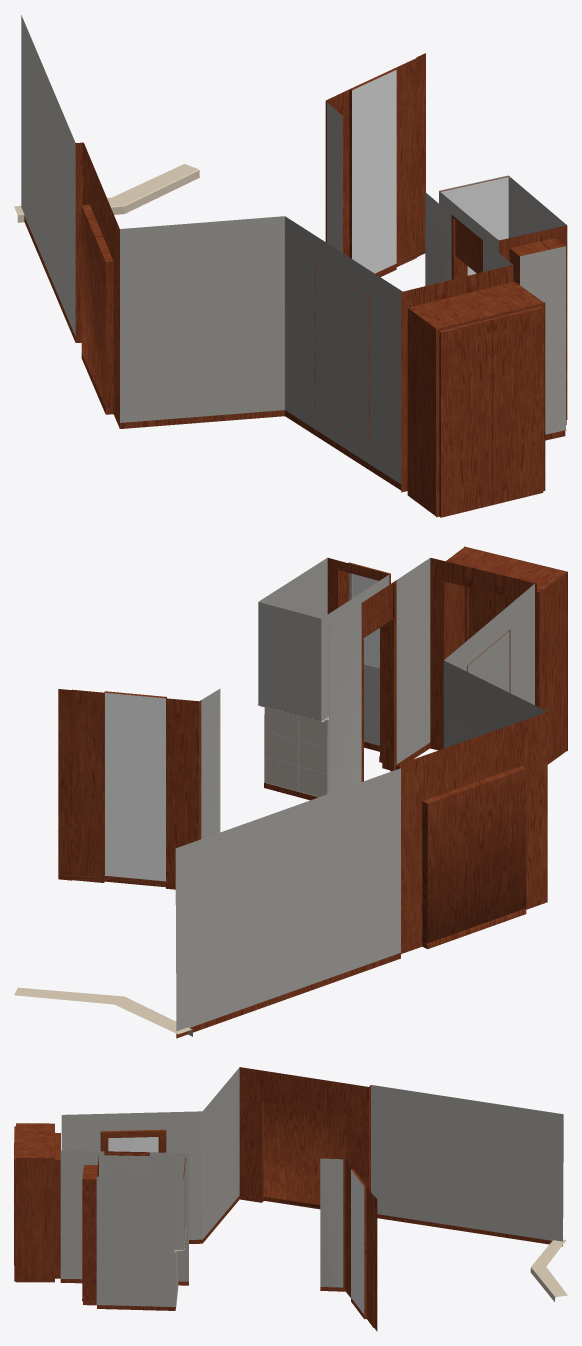
File: LivingRoom_bckup.fbx
3 views of the same model, one above another, from view 1: azimuth 30°, elevation 25°; view 2: azimuth 150°, elevation 25°; view 3: azimuth 270°, elevation 25° (orthographic). The views are drawn at different scales.
Visible parts, largest first — view 1: LivingRoom; view 2: LivingRoom; view 3: LivingRoom.
Boxes of the visible parts, left/top/right/bottom form: LivingRoom: left=14, top=15, right=567, bottom=517; LivingRoom: left=14, top=546, right=567, bottom=1038; LivingRoom: left=14, top=1067, right=567, bottom=1331.
Bounding box in the file's own units: 5.83 × 2.73 × 10.31.
